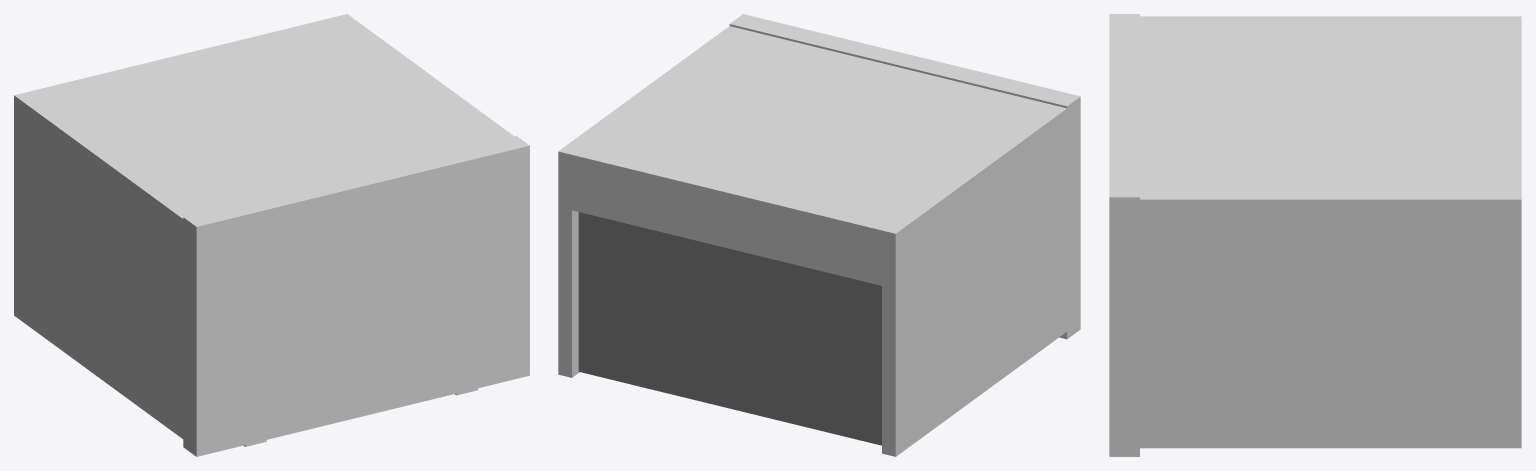
File: Counter_1.obj
3 renders of one model, left to right at view 1: azimuth 30°, elevation 25°; view 2: azimuth 150°, elevation 25°; view 3: azimuth 270°, elevation 25°, orthographic. The views are drawn at different scales.
Visible parts, largest first — view 1: Counter_1; view 2: Counter_1; view 3: Counter_1.
Part boxes in pixels (x1,y1,x2,y2): Counter_1: (14,14,529,456); Counter_1: (558,14,1080,456); Counter_1: (1109,14,1521,456).
Size of the model in its own units: 1 by 0.6697 by 0.949.
